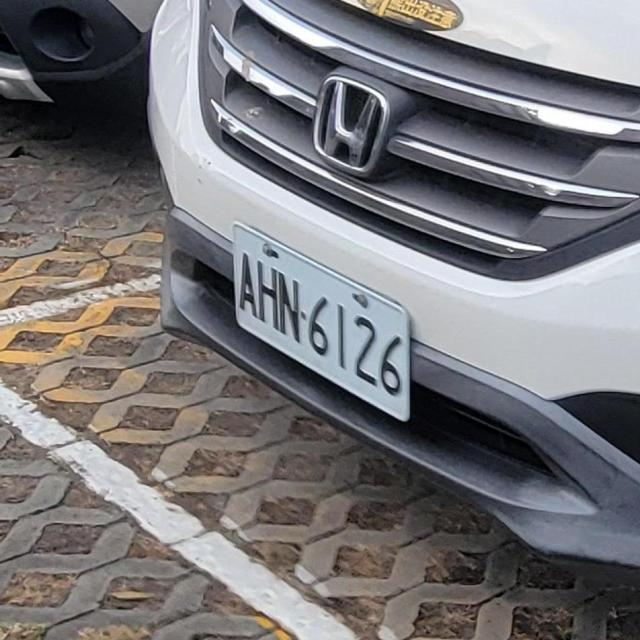W: (216, 217, 425, 432)
